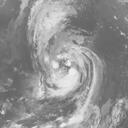cyclone: (34, 37, 103, 105)
